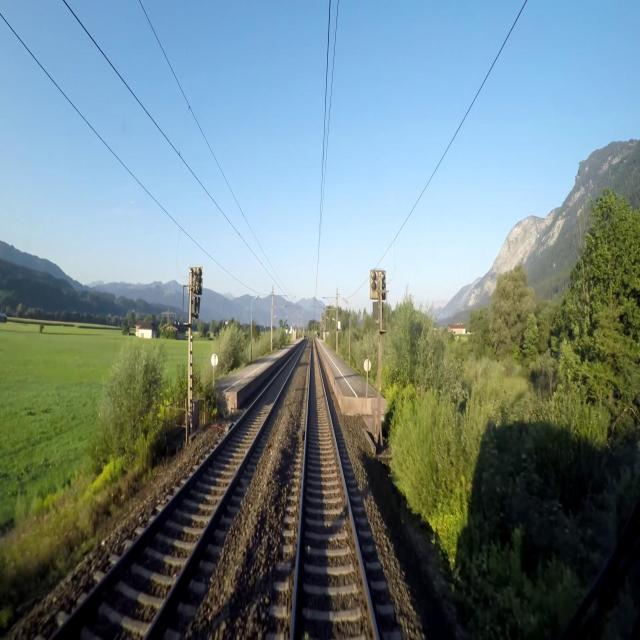rail-track: (55, 350, 299, 639), (294, 344, 374, 639)
